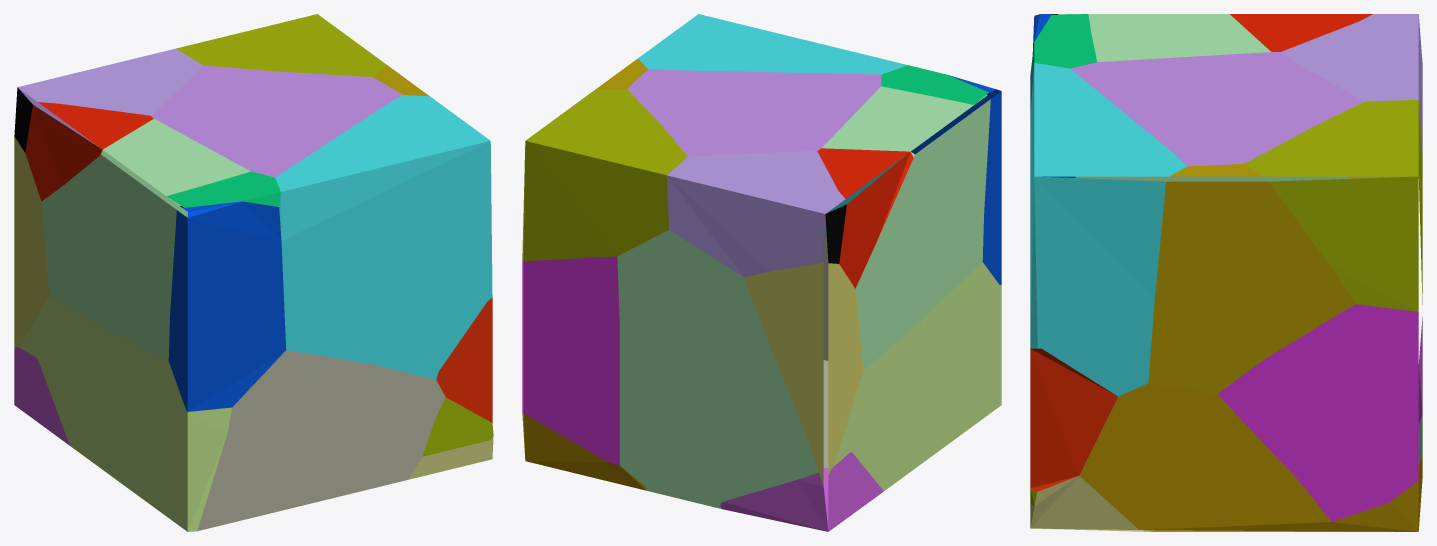
File: testcube.fbx
3 renders of one model, left to right at view 1: azimuth 30°, elevation 25°; view 2: azimuth 150°, elevation 25°; view 3: azimuth 270°, elevation 25°, orthographic. The views are drawn at different scales.
Visible parts, largest first — view 1: pCube2_chunk9, pCube2_chunk8, pCube2_chunk3, pCube2_chunk7, pCube2_chunk4, pCube2_chunk16, pCube2_chunk24, pCube2_chunk13, pCube2_chunk6, pCube2_chunk12, pCube2_chunk2, pCube2_chunk20 (+7 smaller); view 2: pCube2_chunk17, pCube2_chunk24, pCube2_chunk3, pCube2_chunk4, pCube2_chunk26, pCube2_chunk13, pCube2_chunk16, pCube2_chunk9, pCube2_chunk14, pCube2_chunk6, pCube2_chunk1, pCube2_chunk12 (+7 smaller); view 3: pCube2_chunk9, pCube2_chunk23, pCube2_chunk22, pCube2_chunk21, pCube2_chunk24, pCube2_chunk16, pCube2_chunk13, pCube2_chunk20, pCube2_chunk12, pCube2_chunk18, pCube2_chunk6, pCube2_chunk10 (+2 smaller).
Part boxes in pixels (x1,y1,x2,y2): pCube2_chunk9: (275,95,492,379); pCube2_chunk8: (197,350,445,531); pCube2_chunk3: (20,296,231,531); pCube2_chunk7: (168,201,286,411); pCube2_chunk4: (41,150,176,360); pCube2_chunk16: (150,65,402,177); pCube2_chunk24: (176,14,386,76); pCube2_chunk13: (17,48,203,146); pCube2_chunk6: (25,102,153,201); pCube2_chunk12: (103,119,250,205); pCube2_chunk2: (14,136,49,348); pCube2_chunk20: (436,297,492,422); pCube2_chunk17: (617,230,818,508); pCube2_chunk24: (522,89,687,261); pCube2_chunk3: (834,262,1001,490); pCube2_chunk4: (855,99,990,370); pCube2_chunk26: (523,256,619,465); pCube2_chunk13: (667,150,845,277); pCube2_chunk16: (627,69,881,156); pCube2_chunk9: (638,14,908,233); pCube2_chunk14: (744,261,823,485); pCube2_chunk6: (817,148,913,288); pCube2_chunk1: (720,452,883,531); pCube2_chunk12: (822,86,987,151); pCube2_chunk9: (1030,63,1187,396); pCube2_chunk23: (1148,181,1355,393); pCube2_chunk22: (1218,304,1418,521); pCube2_chunk21: (1079,383,1418,531); pCube2_chunk24: (1245,99,1422,311); pCube2_chunk16: (1070,52,1364,166); pCube2_chunk13: (1280,14,1422,153); pCube2_chunk20: (1030,348,1117,491); pCube2_chunk12: (1058,14,1270,62); pCube2_chunk18: (1030,476,1153,531); pCube2_chunk6: (1230,14,1372,51); pCube2_chunk10: (1030,14,1096,74).
Size of the model in its own units: 2.66 by 2.66 by 2.66.
